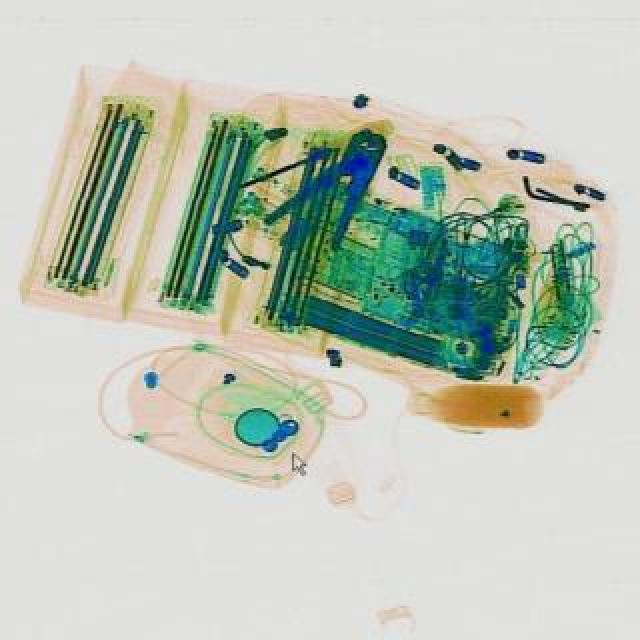wrench: (258, 110, 408, 262)
